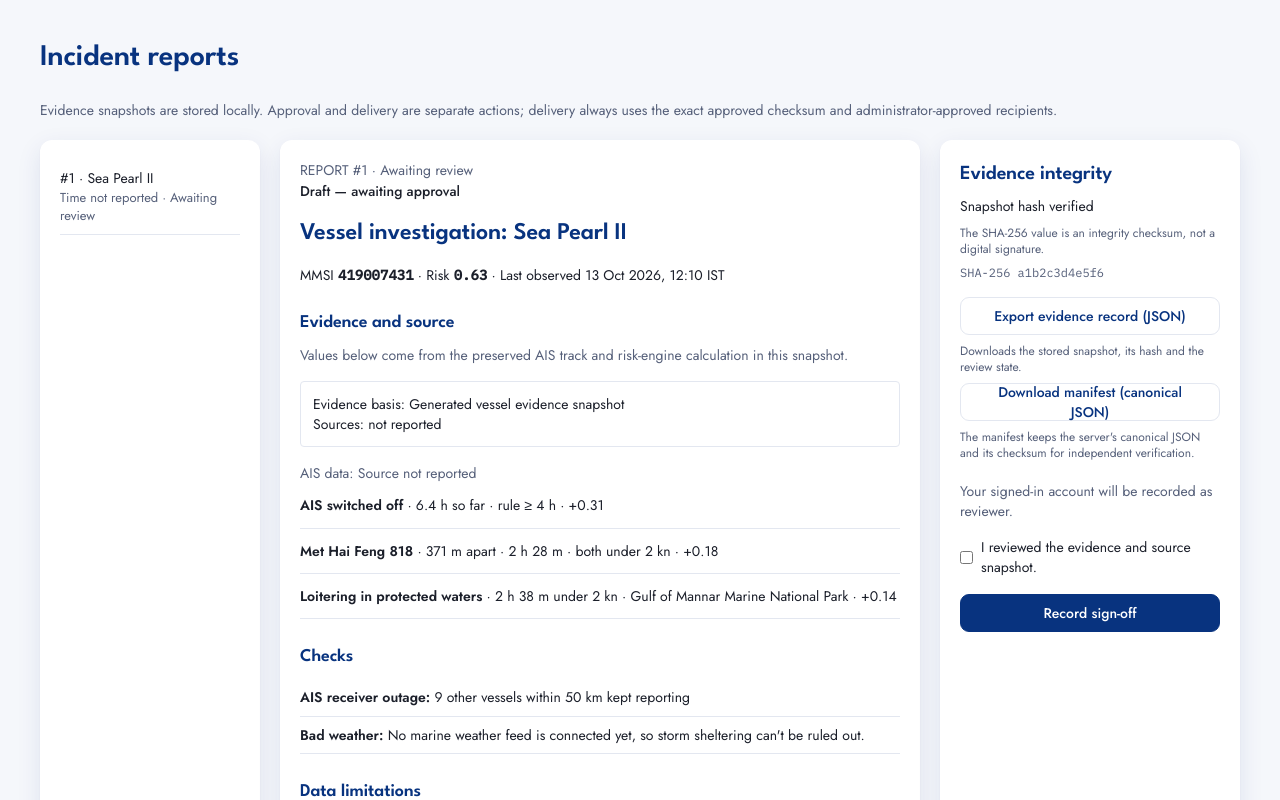
Test: Cases / EvidencePage & ReportsPage › shows string error message when sign-off is rejected and detail is a string
This screenshot has width=1280, height=800.
Click the checkbox labelled "I reviewed the evidence and source snapshot." at (966,558), box [960,537,973,578]
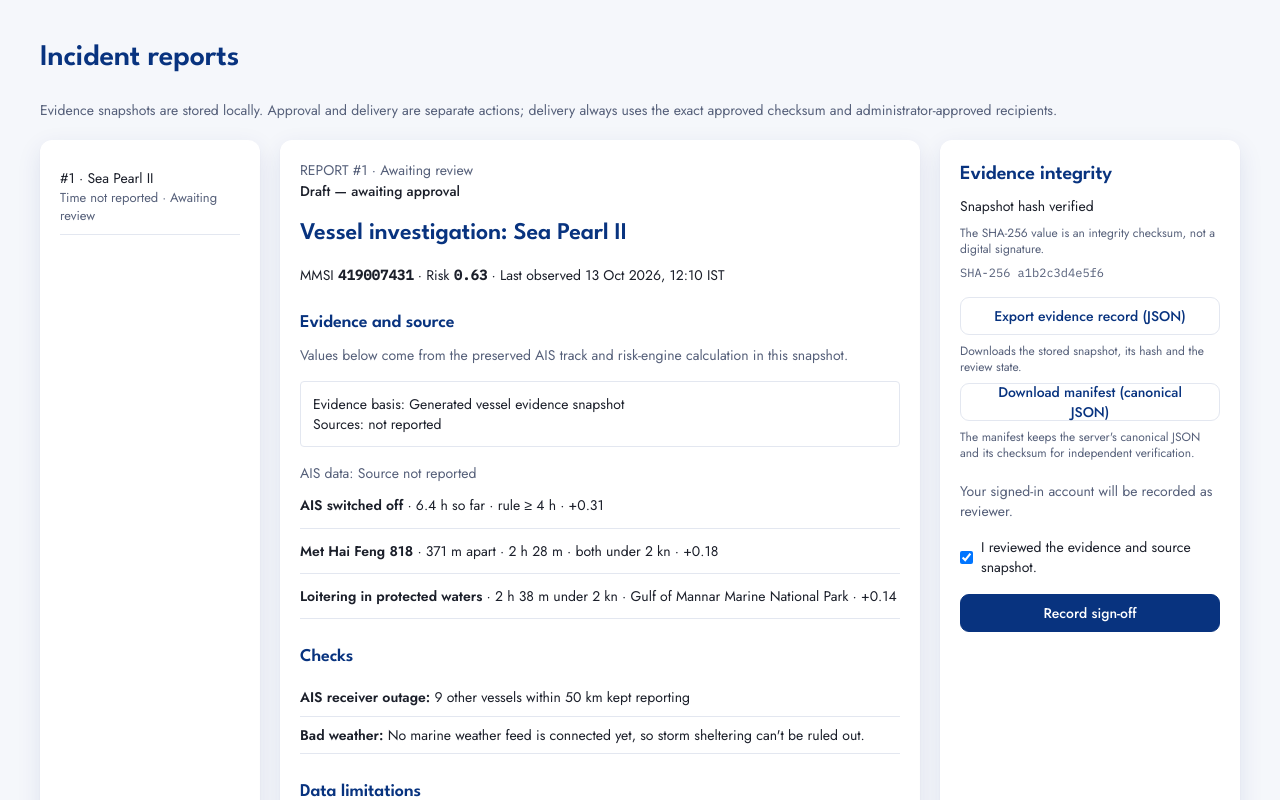
Click the button "Record sign-off" at (1090,613), box [960,594,1220,632]
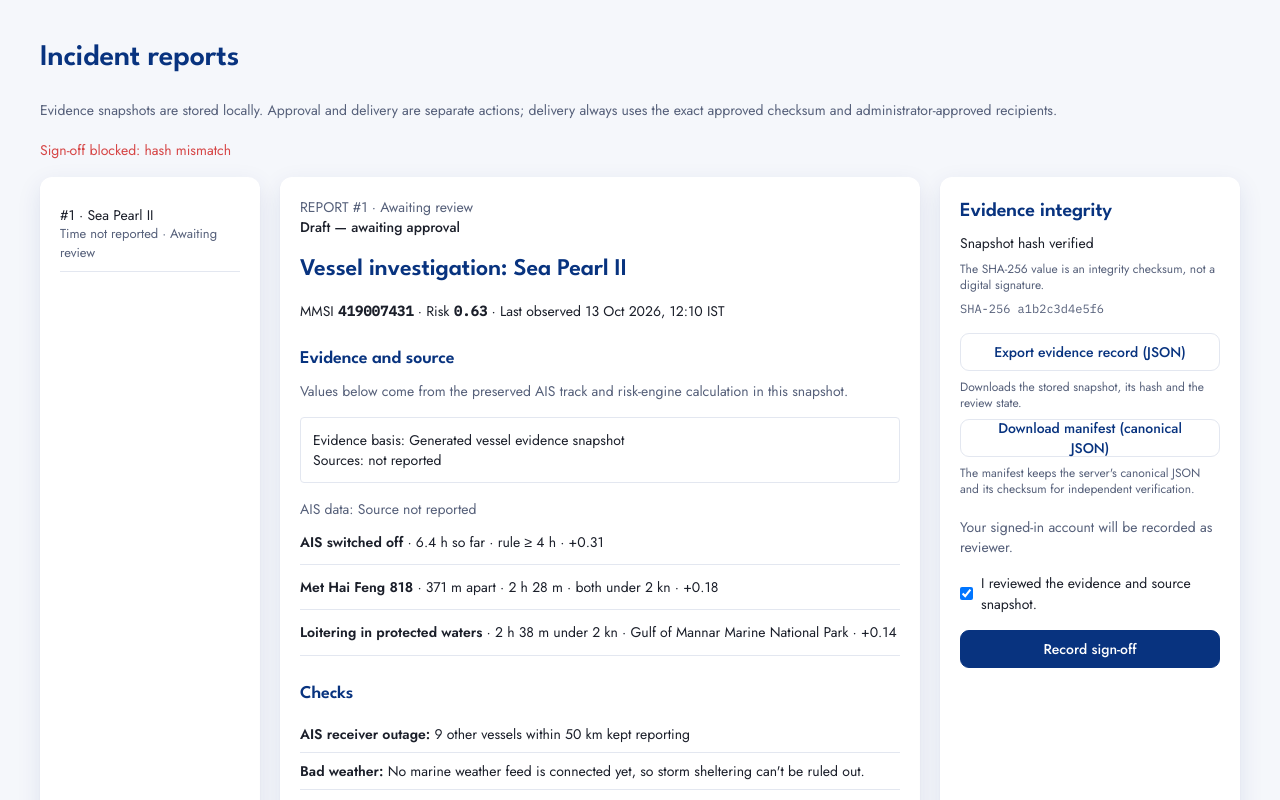
Expected: the heading "Vessel investigation: Sea Pearl II" is shown, [300,258,627,280]
Result: the message reads "Sign-off blocked: hash mismatch" at [40,140,231,160]
